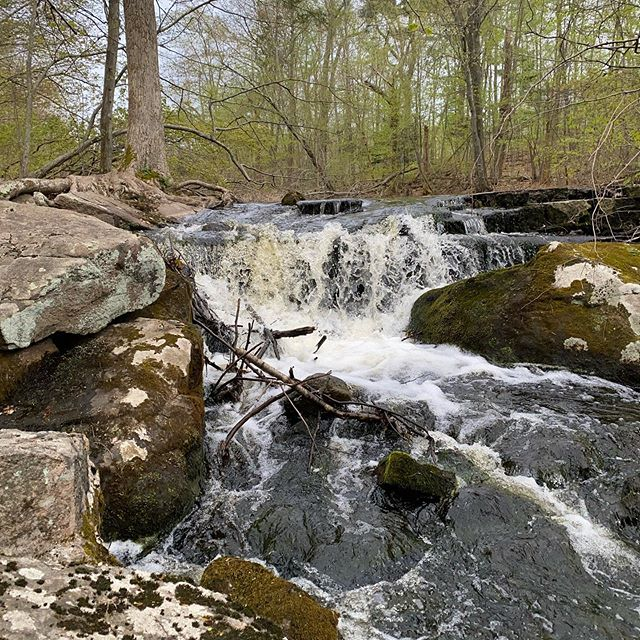rocks: (1, 183, 247, 640), (445, 227, 640, 372)
tree: (1, 1, 99, 172), (99, 1, 181, 185)
vegetation: (172, 1, 640, 181)
waterfall: (161, 195, 588, 640)
